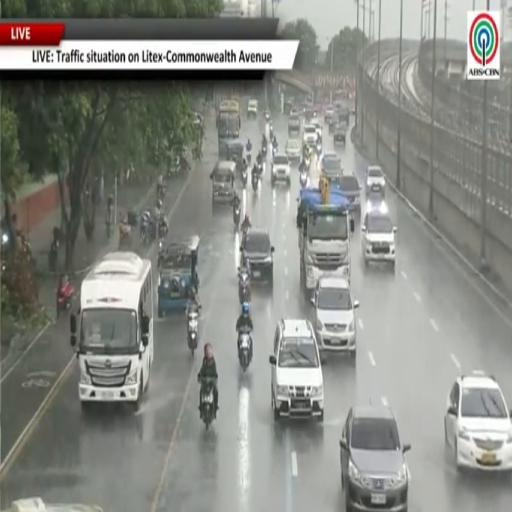bus: (71, 252, 154, 410)
car: (340, 405, 410, 511), (445, 372, 511, 471), (270, 319, 323, 422), (312, 276, 359, 357), (361, 203, 396, 268), (241, 228, 274, 285), (6, 498, 103, 511), (340, 174, 360, 213), (271, 153, 290, 185), (366, 166, 385, 195), (321, 152, 342, 178), (285, 139, 302, 162), (303, 124, 317, 147), (333, 123, 347, 145), (328, 111, 339, 134), (288, 114, 300, 135), (337, 105, 350, 124), (321, 152, 338, 165), (304, 106, 317, 122), (247, 100, 258, 118), (311, 119, 322, 137), (325, 105, 334, 123), (283, 101, 293, 115)
motorcycle: (200, 378, 216, 429), (57, 281, 74, 316), (239, 329, 251, 371), (188, 310, 198, 356), (239, 268, 250, 305), (48, 239, 58, 271), (233, 204, 241, 231), (140, 222, 149, 246), (242, 223, 248, 247), (300, 170, 308, 188), (252, 172, 258, 191), (157, 185, 164, 200), (304, 154, 310, 170), (242, 168, 247, 187), (316, 141, 321, 155), (262, 144, 267, 156), (247, 151, 251, 165), (265, 111, 270, 122), (159, 238, 163, 251), (273, 146, 277, 157)
truck: (297, 188, 354, 296), (216, 100, 241, 155)
